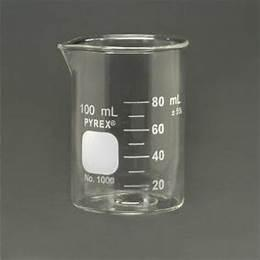Beaker: (55, 30, 192, 216)
